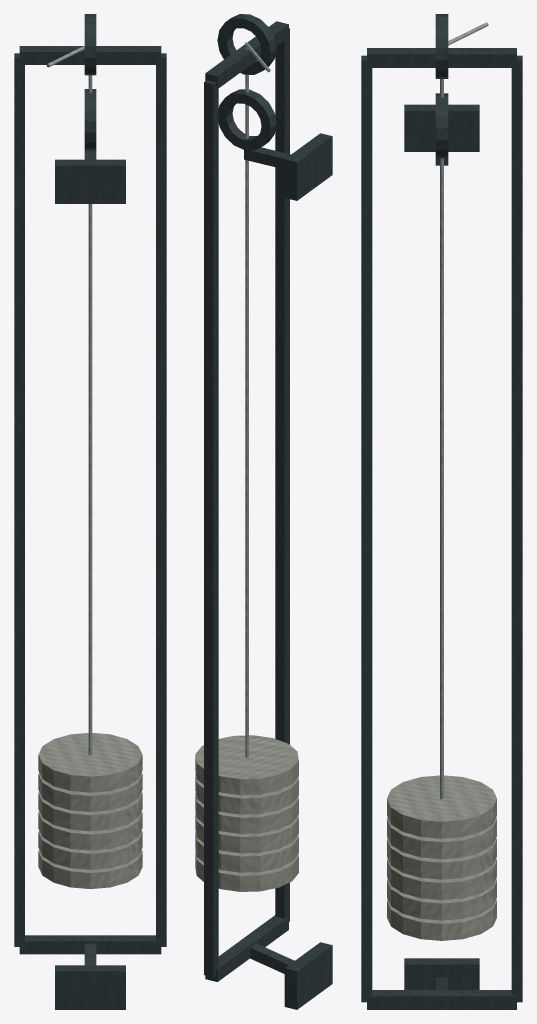
The picture shows the model from 3 angles, left to right: view 1: azimuth 90°, elevation 25°; view 2: azimuth 150°, elevation 25°; view 3: azimuth 270°, elevation 25°; orthographic projection. The views are drawn at different scales.
Parts seen in each view (by area): view 1: B027-06_frame_iron, B027-06_moving_weights_concrete, B027-06_mount_iron, B027-06_cable_steel; view 2: B027-06_frame_iron, B027-06_moving_weights_concrete, B027-06_mount_iron, B027-06_cable_steel; view 3: B027-06_frame_iron, B027-06_moving_weights_concrete, B027-06_mount_iron, B027-06_cable_steel.
Part boxes in pixels (x1,y1,x2,y2): B027-06_frame_iron: [14, 14, 166, 965]; B027-06_moving_weights_concrete: [38, 733, 142, 888]; B027-06_mount_iron: [55, 159, 125, 1009]; B027-06_cable_steel: [46, 45, 92, 755]; B027-06_frame_iron: [204, 14, 294, 981]; B027-06_moving_weights_concrete: [195, 735, 298, 891]; B027-06_mount_iron: [284, 133, 332, 1009]; B027-06_cable_steel: [245, 42, 270, 757]; B027-06_frame_iron: [361, 14, 522, 1009]; B027-06_moving_weights_concrete: [387, 775, 496, 940]; B027-06_mount_iron: [404, 104, 479, 989]; B027-06_cable_steel: [440, 22, 488, 799].
Size of the model in its own units: 0.55 by 4.48 by 0.645.
3 materials, 3 textured.
